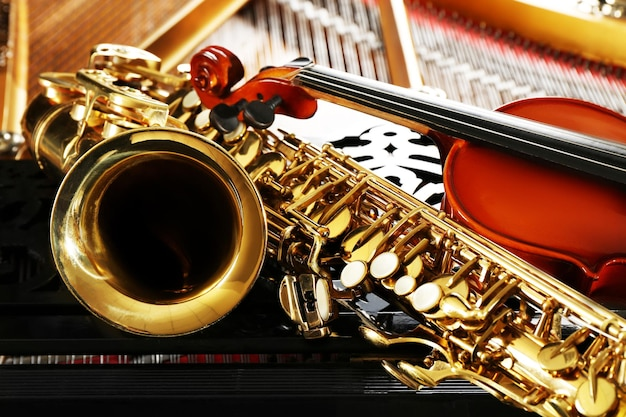Saxophone: (17, 42, 620, 417)
Violin: (187, 31, 626, 286)
